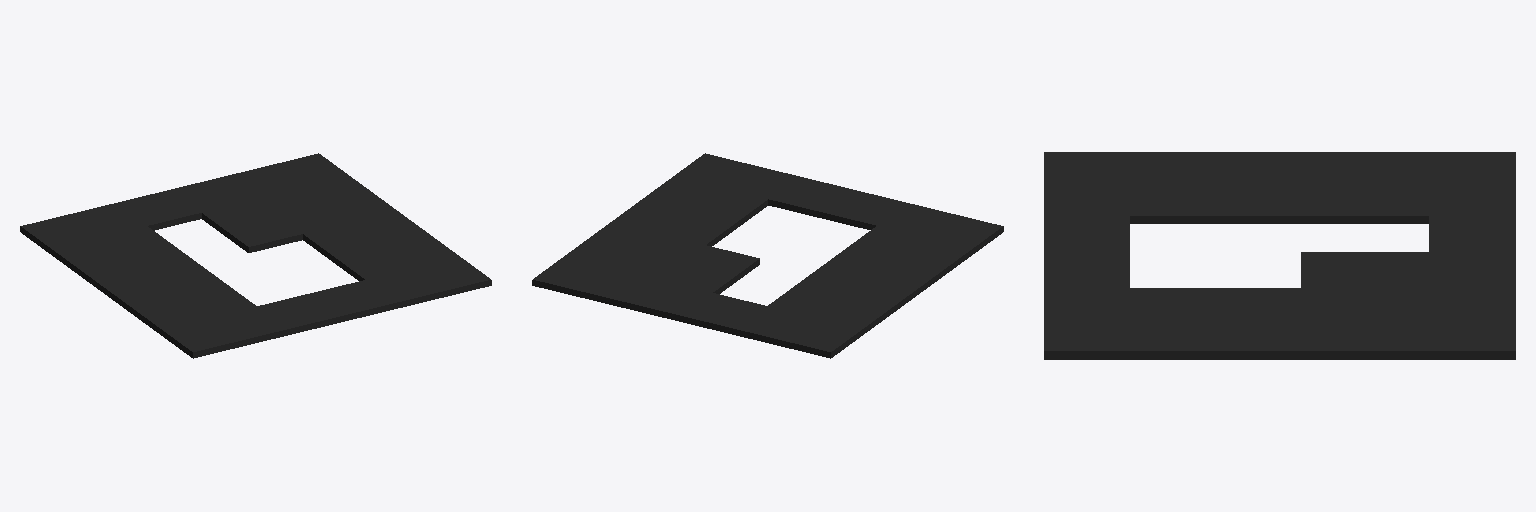
robot.urdf — Room102:
<robot name="Room102">
    <link name="_name">
        <visual> 
            <origin rpy="0.0 0.0 0.0" xyz="-0.5052991808999237 -0.5112297254361498 -0.01" />
                <geometry>
                    <mesh filename="Room102/Room102.obj" scale="1 1 0.1" />
                </geometry>

            <material name="black">
                <color rgba="0.2 0.2 0.2 0.95" />
            </material>
        </visual>

       <collision concave="yes" name="collision_0">
            <origin rpy="0.0 0.0 0.0" xyz="-0.5052991808999237 -0.5112297254361498 -0.01" />
            <geometry>
                <mesh filename="Room102/Room102_vhacd.obj" scale="1 1 0.1" />
            </geometry>
        </collision>

        <inertial> 
            <mass value="0" />
            <inertia ixx="0" ixy="0" ixz="0" iyy="0" iyz="0" izz="0" />
        </inertial> 
    </link>
</robot>

--- What the picture shows (computed from the rendered views, not written in the file) ---
Views: 3 orthographic renders of the robot side by side, from view 1: azimuth 30°, elevation 25°; view 2: azimuth 150°, elevation 25°; view 3: azimuth 270°, elevation 25°.
Model Room102 with 1 links and 0 joints (none), rooted at _name, posed all joints at 0.
Links seen in each view (by area): view 1: _name; view 2: _name; view 3: _name.
Link boxes in pixels (x1,y1,x2,y2): _name: [20, 153, 491, 358]; _name: [532, 153, 1003, 358]; _name: [1044, 152, 1515, 359].
Bounding box of the posed robot: 1 × 1 × 0.02 m (x, y, z).
1 mesh visuals loaded from 1 distinct referenced files (1 OBJ).